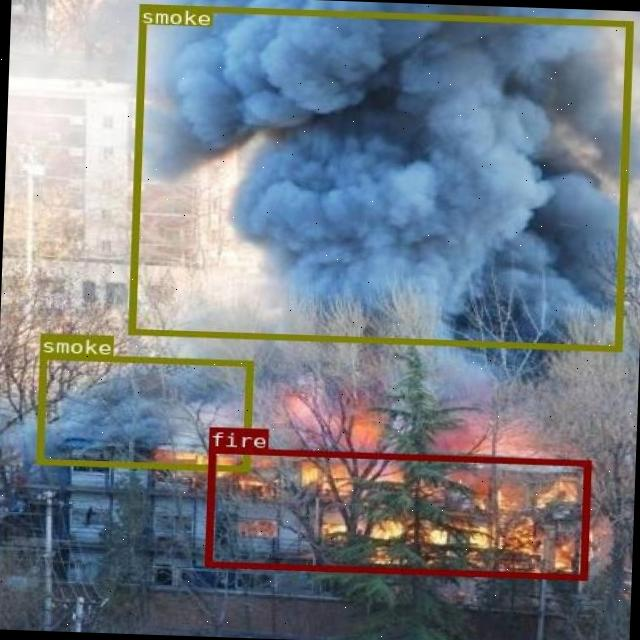fire: (205, 446, 590, 580)
smoke: (128, 3, 630, 350), (34, 352, 250, 470)
